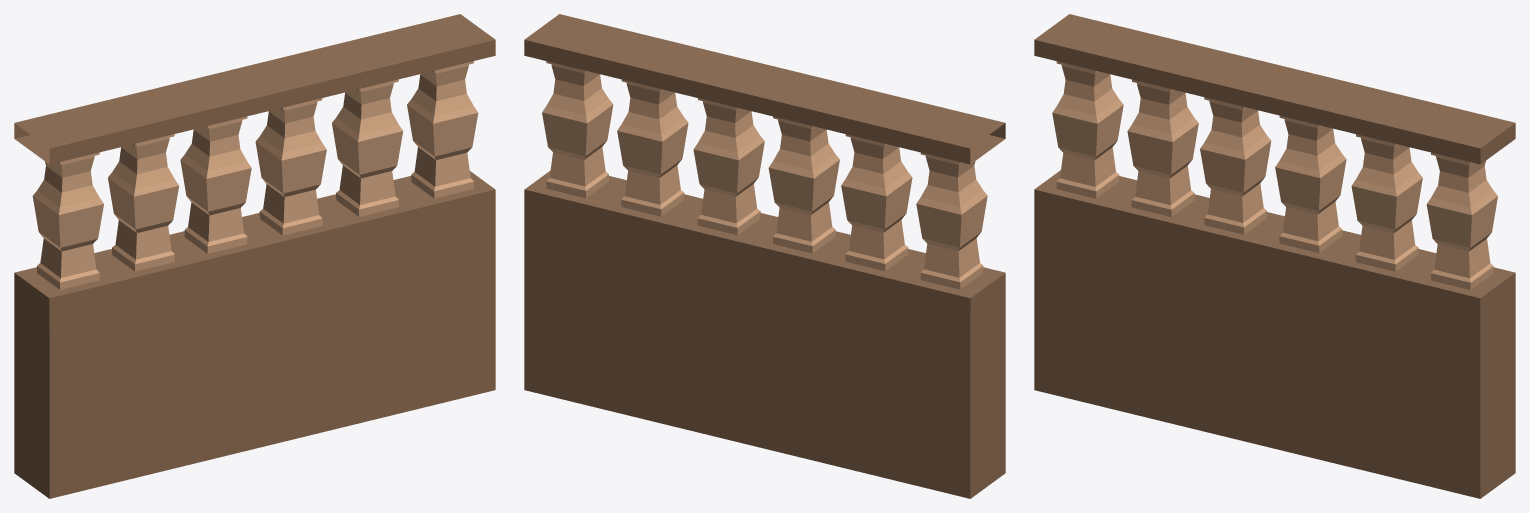
Rendered from level-01.FBX.
3 views of the same model, side by side, from view 1: azimuth 30°, elevation 25°; view 2: azimuth 150°, elevation 25°; view 3: azimuth 330°, elevation 25° (orthographic).
Parts seen in each view (by area): view 1: Object018; view 2: Object018; view 3: Object018.
Boxes of the visible parts, <box> form: Object018: <box>14,14,495,498</box>; Object018: <box>524,14,1005,498</box>; Object018: <box>1034,14,1515,498</box>.
Size of the model in its own units: 514 by 386 by 70.15.
